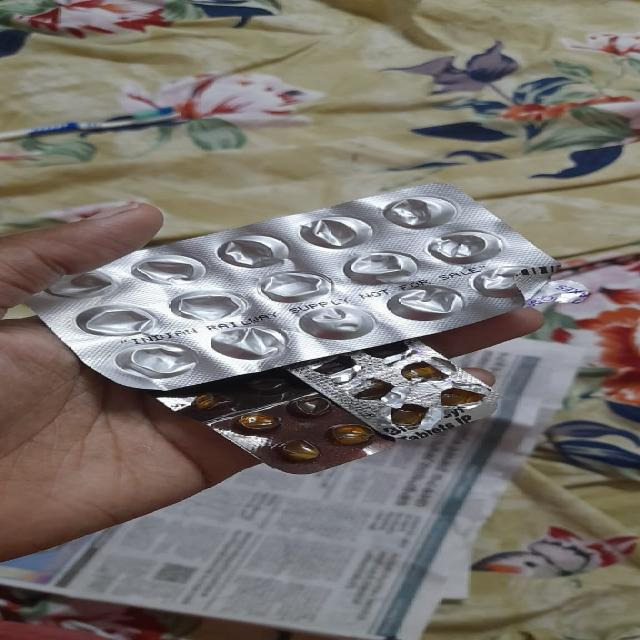Blister_Packs - Non Recyclable: (20, 180, 564, 394)
